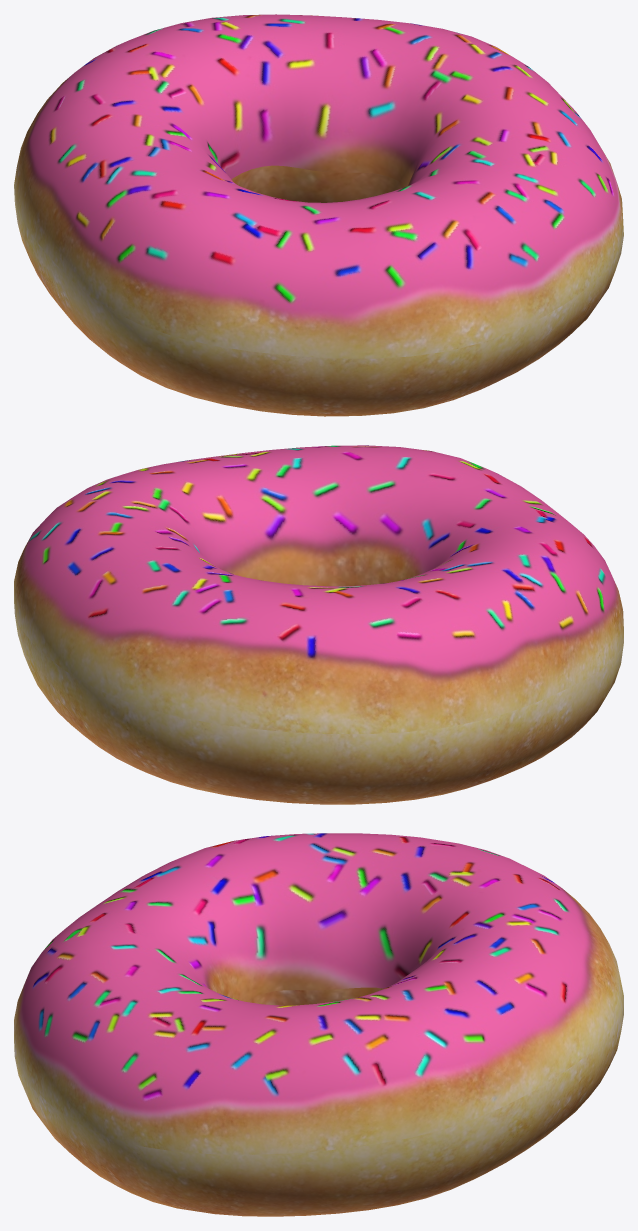
File: Donut8.obj
3 renders of one model, top to bottom at view 1: azimuth 30°, elevation 25°; view 2: azimuth 150°, elevation 25°; view 3: azimuth 270°, elevation 25°, orthographic.
Parts seen in each view (by area): view 1: donut062; view 2: donut062; view 3: donut062.
Part boxes in pixels (bbox=[...]): donut062: bbox=[14, 14, 623, 416]; donut062: bbox=[14, 445, 623, 804]; donut062: bbox=[14, 833, 623, 1216].
Bounding box in the file's own units: 9.35 × 3.88 × 9.66.
1 material, 1 textured.
